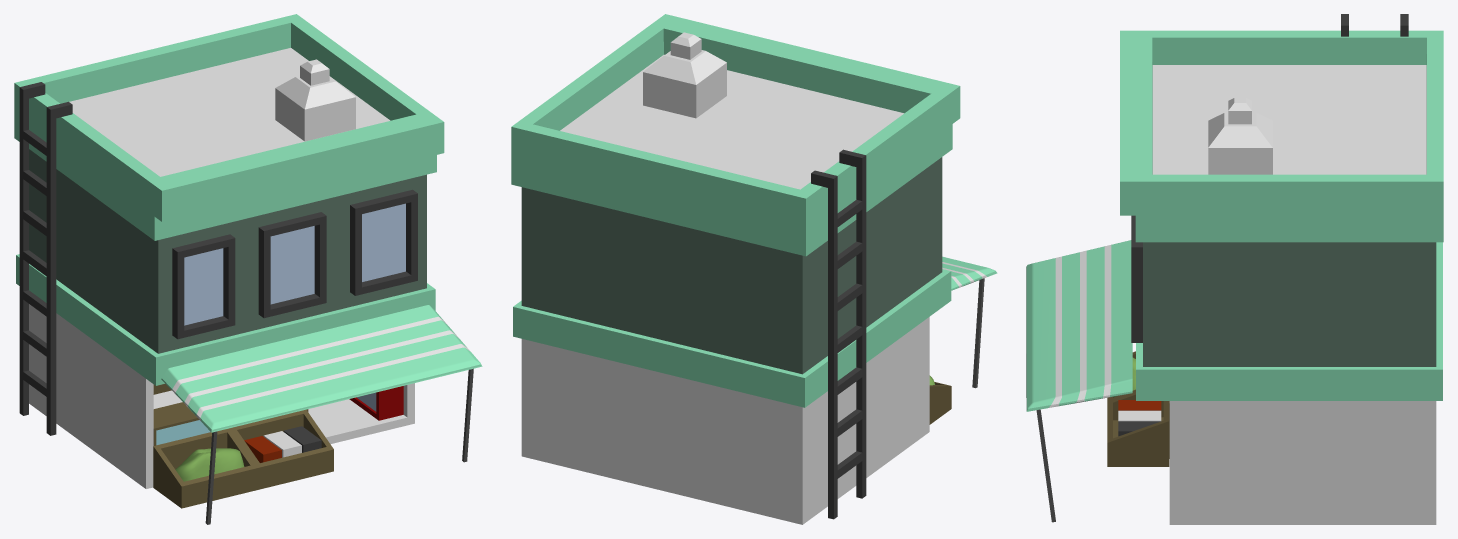
Rendered from Grocery.fbx.
The picture shows the model from 3 angles, left to right: view 1: azimuth 30°, elevation 25°; view 2: azimuth 150°, elevation 25°; view 3: azimuth 270°, elevation 25°; orthographic projection. The views are drawn at different scales.
Visible parts, largest first — view 1: pCube379, pCube389, pCube392, pCube380, H_Top_05, pCube381, pSphere18, pCube382, pCube386, pCube387, pCube388, pCube391 (+1 smaller); view 2: pCube379, pCube392, H_Top_05, pCube389, pCube380, pCube390; view 3: pCube379, pCube389, H_Top_05, pCube380, pCube391, pCube387.
Part boxes in pixels (left/top/right/bottom): pCube379: left=14, top=14, right=444, bottom=488; pCube389: left=161, top=305, right=482, bottom=432; pCube392: left=19, top=82, right=72, bottom=435; pCube380: left=153, top=409, right=333, bottom=508; H_Top_05: left=275, top=59, right=355, bottom=141; pCube381: left=153, top=402, right=308, bottom=445; pSphere18: left=175, top=448, right=244, bottom=481; pCube382: left=349, top=386, right=403, bottom=420; pCube386: left=244, top=436, right=281, bottom=462; pCube387: left=263, top=431, right=301, bottom=457; pCube388: left=283, top=426, right=321, bottom=452; pCube391: left=462, top=368, right=473, bottom=462; pCube379: left=511, top=14, right=960, bottom=524; pCube392: left=811, top=149, right=866, bottom=519; H_Top_05: left=643, top=32, right=726, bottom=118; pCube389: left=942, top=256, right=997, bottom=290; pCube380: left=929, top=382, right=951, bottom=424; pCube390: left=972, top=278, right=984, bottom=388; pCube379: left=1120, top=30, right=1443, bottom=524; pCube389: left=1026, top=240, right=1132, bottom=411; H_Top_05: left=1208, top=98, right=1272, bottom=174; pCube380: left=1107, top=351, right=1169, bottom=466; pCube391: left=1036, top=409, right=1055, bottom=522; pCube387: left=1118, top=410, right=1161, bottom=421.
Bounding box in the file's own units: 179 × 207 × 202.
